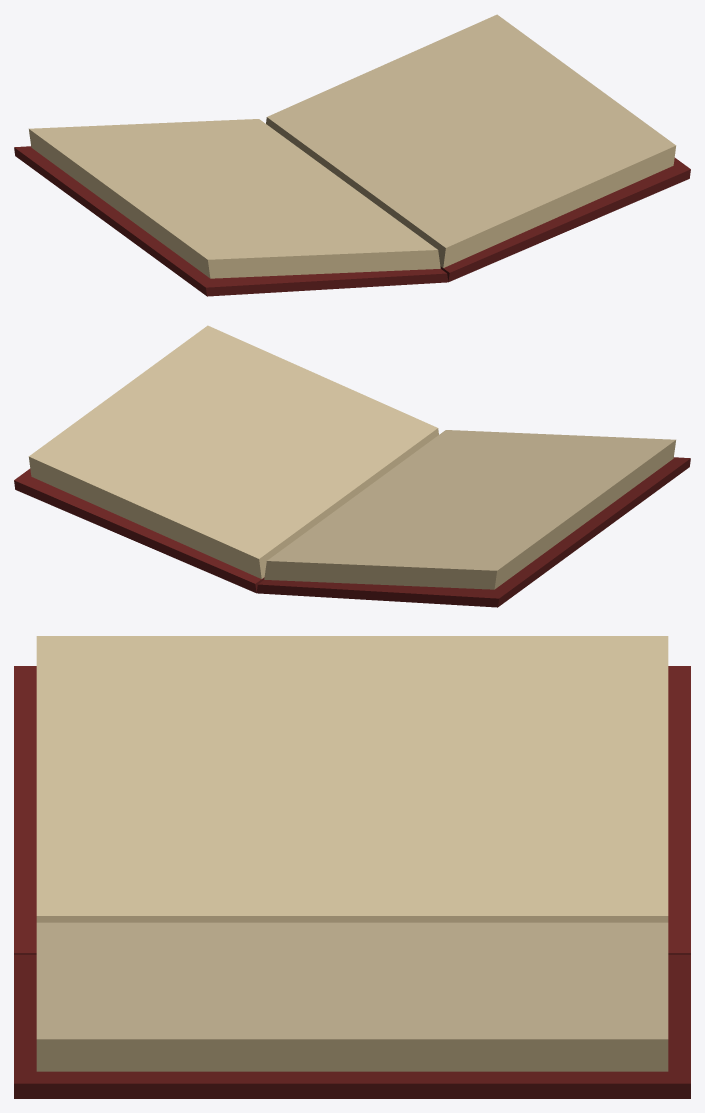
Rendered from OpenBook2.fbx.
The picture shows the model from 3 angles, top to bottom: view 1: azimuth 30°, elevation 25°; view 2: azimuth 150°, elevation 25°; view 3: azimuth 270°, elevation 25°; orthographic projection. The views are drawn at different scales.
Visible parts, largest first — view 1: SM_Book_Open.001; view 2: SM_Book_Open.001; view 3: SM_Book_Open.001.
Boxes of the visible parts, x1,y1,x2,y2 form: SM_Book_Open.001: (14, 14, 690, 296); SM_Book_Open.001: (14, 325, 690, 607); SM_Book_Open.001: (14, 636, 690, 1098).
Size of the model in its own units: 0.4379 by 0.0647 by 0.3.
